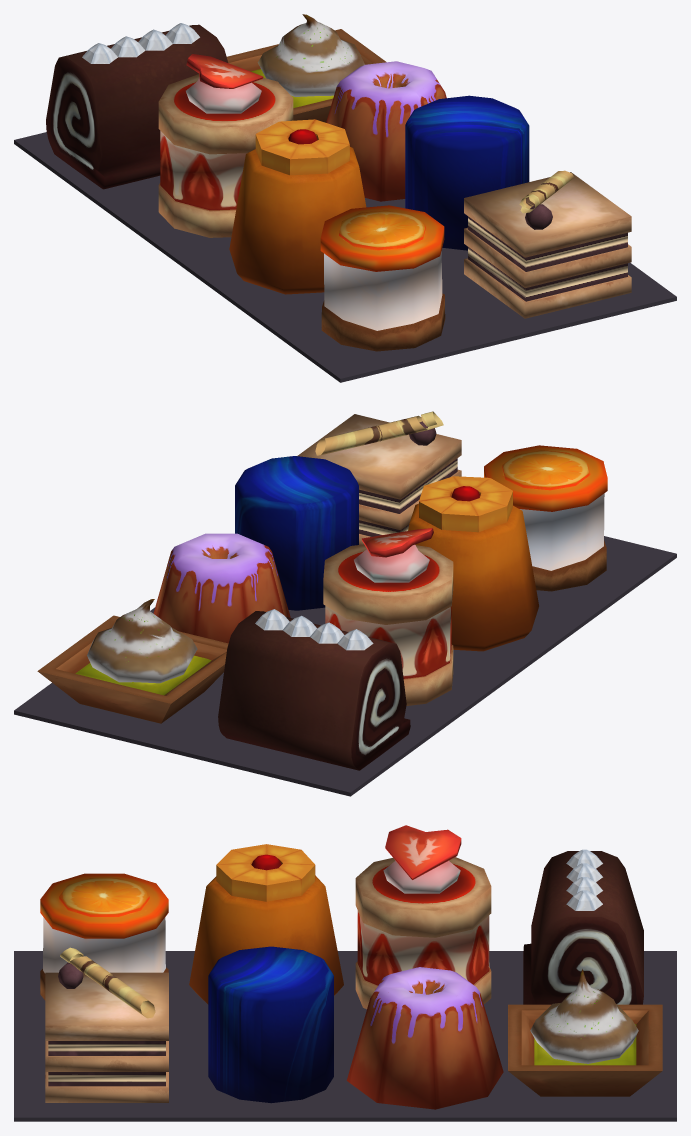
3 renders of one model, top to bottom at view 1: azimuth 30°, elevation 25°; view 2: azimuth 150°, elevation 25°; view 3: azimuth 270°, elevation 25°, orthographic.
Parts seen in each view (by area): view 1: Plate_0, 7Layercake_7, 1Pineapple_upsidedown_9, 4orange_cheesecake_8, 6Rolade_11, 5Blueberry_3, 3Strawberry_shortcake_14, 2Bunt_4, Merangue_15, 8Tart_16, Piped Cream_10, Strawberry Cream_12 (+2 smaller); view 2: Plate_0, 6Rolade_11, 1Pineapple_upsidedown_9, 5Blueberry_3, 4orange_cheesecake_8, 3Strawberry_shortcake_14, 2Bunt_4, 7Layercake_7, 8Tart_16, Merangue_15, Flute.001_6, Piped Cream_10 (+2 smaller); view 3: Plate_0, 5Blueberry_3, 2Bunt_4, 7Layercake_7, 3Strawberry_shortcake_14, 1Pineapple_upsidedown_9, 6Rolade_11, 4orange_cheesecake_8, 8Tart_16, Merangue_15, Strawberry_Slice.001_13, Piped Cream_10 (+3 smaller).
Part boxes in pixels (x1=…): Plate_0: x1=14, y1=132, x2=676, y2=382; 7Layercake_7: x1=464, y1=172, x2=631, y2=318; 1Pineapple_upsidedown_9: x1=229, y1=119, x2=366, y2=294; 4orange_cheesecake_8: x1=320, y1=205, x2=445, y2=351; 6Rolade_11: x1=46, y1=24, x2=227, y2=189; 5Blueberry_3: x1=405, y1=95, x2=529, y2=250; 3Strawberry_shortcake_14: x1=158, y1=74, x2=293, y2=237; 2Bunt_4: x1=326, y1=61, x2=446, y2=201; Merangue_15: x1=257, y1=14, x2=364, y2=96; 8Tart_16: x1=226, y1=29, x2=386, y2=122; Piped Cream_10: x1=82, y1=23, x2=199, y2=63; Strawberry Cream_12: x1=186, y1=77, x2=261, y2=113; Plate_0: x1=14, y1=536, x2=676, y2=796; 6Rolade_11: x1=218, y1=611, x2=410, y2=770; 1Pineapple_upsidedown_9: x1=408, y1=476, x2=538, y2=651; 5Blueberry_3: x1=235, y1=456, x2=358, y2=610; 4orange_cheesecake_8: x1=484, y1=445, x2=607, y2=591; 3Strawberry_shortcake_14: x1=323, y1=544, x2=453, y2=705; 2Bunt_4: x1=153, y1=533, x2=290, y2=643; 7Layercake_7: x1=297, y1=414, x2=461, y2=544; 8Tart_16: x1=37, y1=615, x2=228, y2=723; Merangue_15: x1=87, y1=599, x2=197, y2=683; Flute.001_6: x1=315, y1=411, x2=443, y2=455; Piped Cream_10: x1=255, y1=609, x2=373, y2=650; Plate_0: x1=14, y1=951, x2=676, y2=1121; 5Blueberry_3: x1=208, y1=946, x2=333, y2=1103; 2Bunt_4: x1=346, y1=967, x2=503, y2=1109; 7Layercake_7: x1=45, y1=972, x2=168, y2=1102; 3Strawberry_shortcake_14: x1=355, y1=857, x2=491, y2=1009; 1Pineapple_upsidedown_9: x1=189, y1=844, x2=343, y2=1004; 6Rolade_11: x1=523, y1=851, x2=643, y2=1004; 4orange_cheesecake_8: x1=40, y1=873, x2=168, y2=1000; 8Tart_16: x1=508, y1=1004, x2=662, y2=1096; Merangue_15: x1=530, y1=969, x2=638, y2=1063; Strawberry_Slice.001_13: x1=385, y1=825, x2=461, y2=879; Piped Cream_10: x1=566, y1=849, x2=602, y2=910.
Bounding box in the file's own units: 2.5 × 1.1 × 4.2.
Materials: 15 (14 with a texture image).
